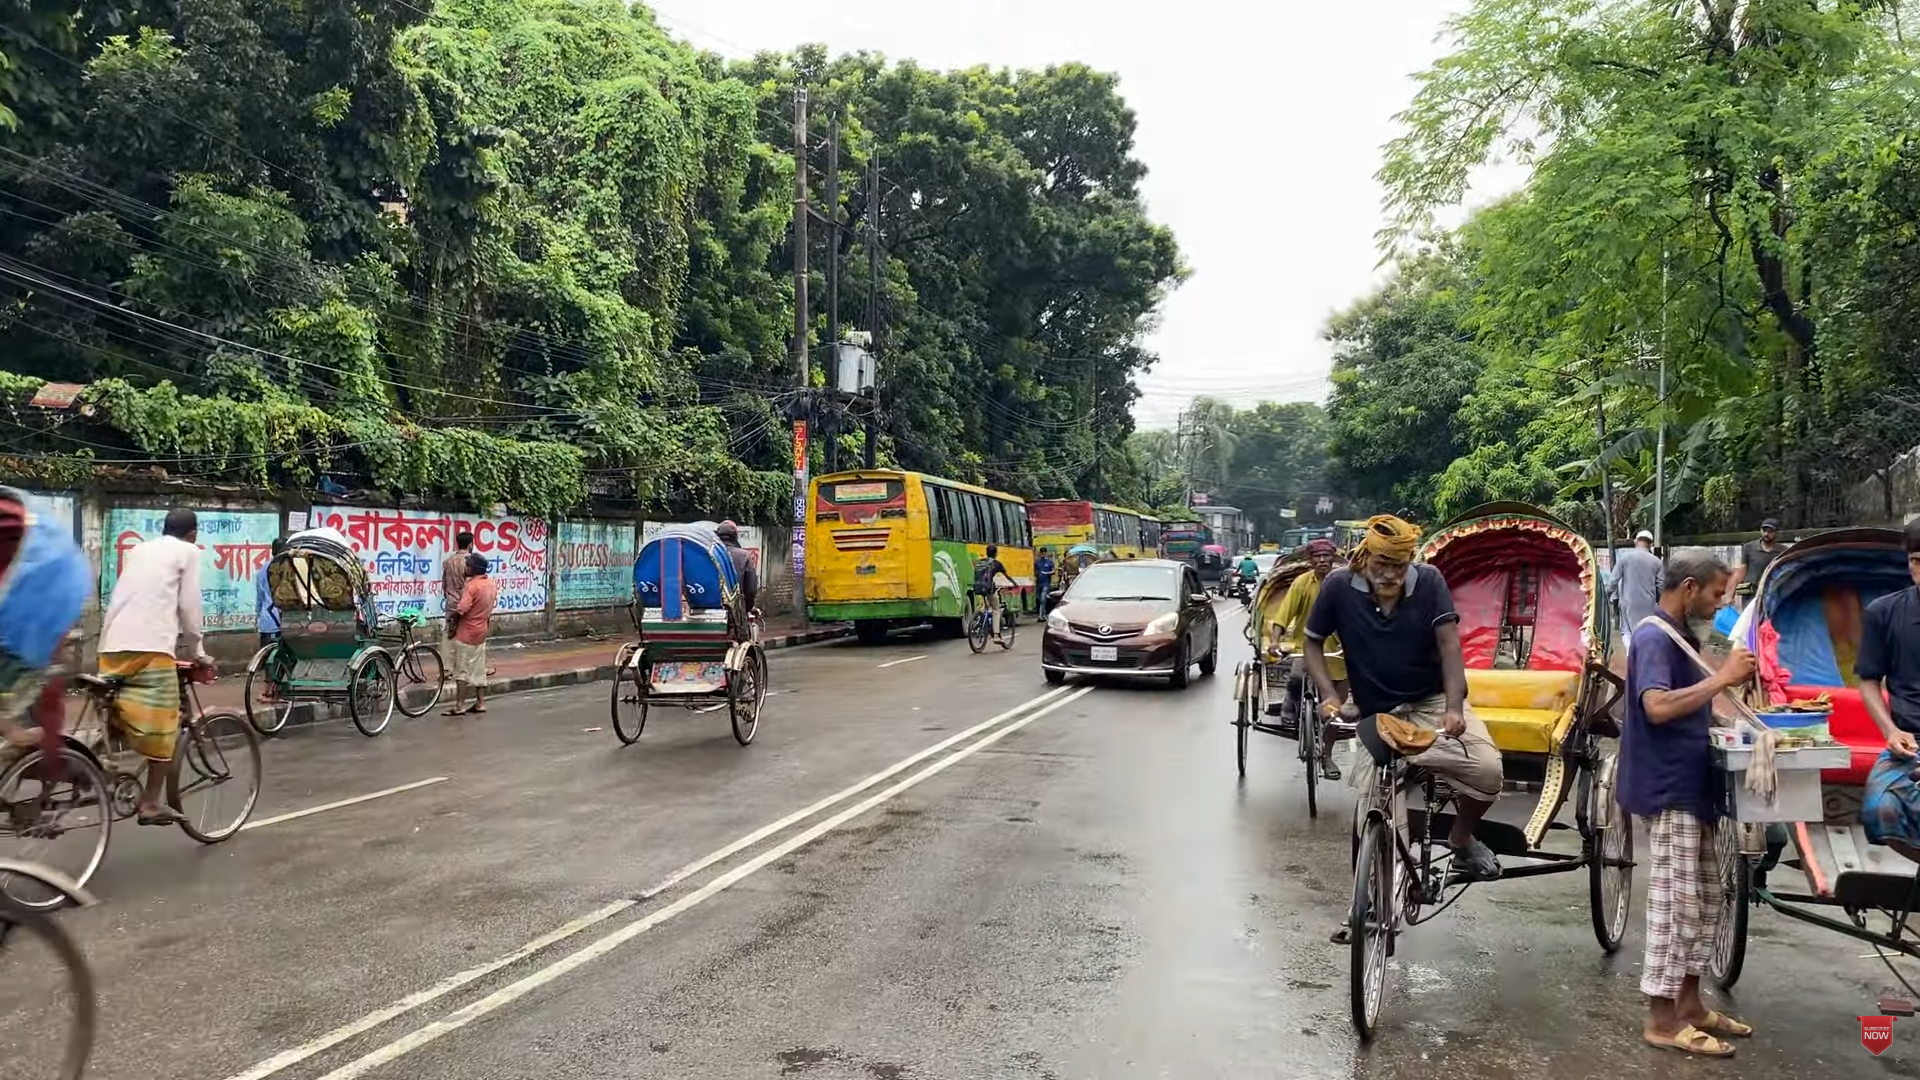Bus: (803, 475, 961, 649)
Car: (1043, 549, 1224, 694)
Rickshaw: (1300, 497, 1615, 1038), (11, 473, 266, 882), (1729, 531, 1920, 1047), (247, 543, 447, 750), (603, 516, 777, 744)
